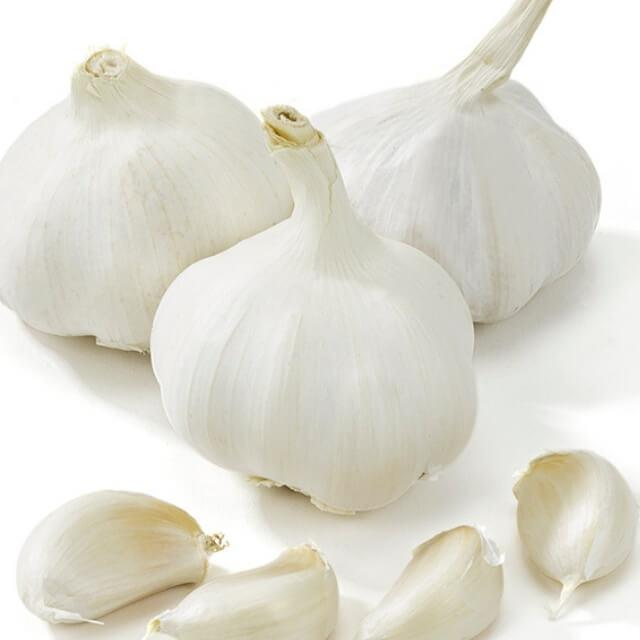garlic: (0, 0, 615, 540), (14, 486, 209, 629), (512, 443, 640, 630), (148, 541, 343, 640), (356, 524, 510, 640)
